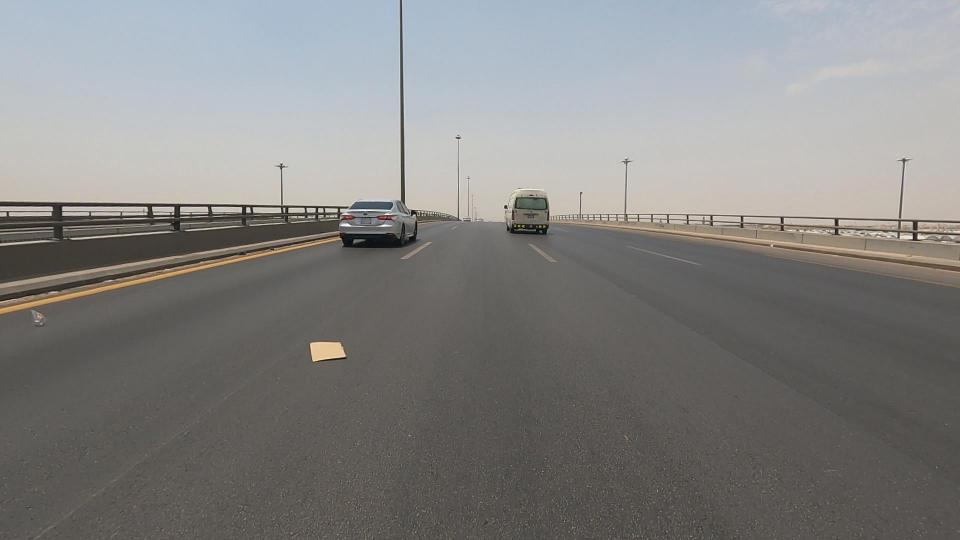GARBAGE: (256, 312, 390, 389), (9, 281, 71, 352)
